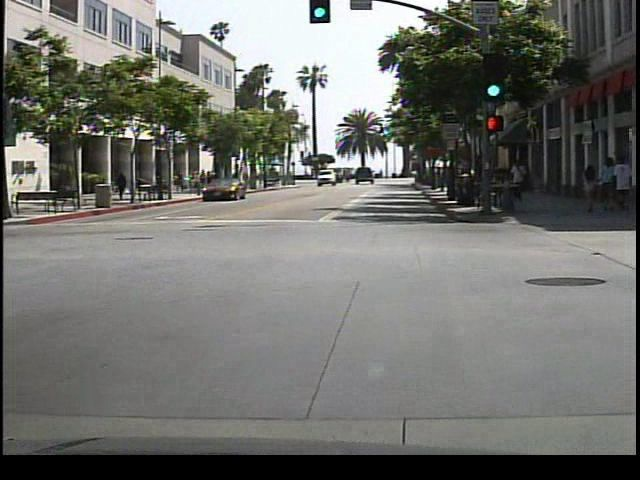person: (509, 155, 530, 206), (115, 169, 131, 202)
